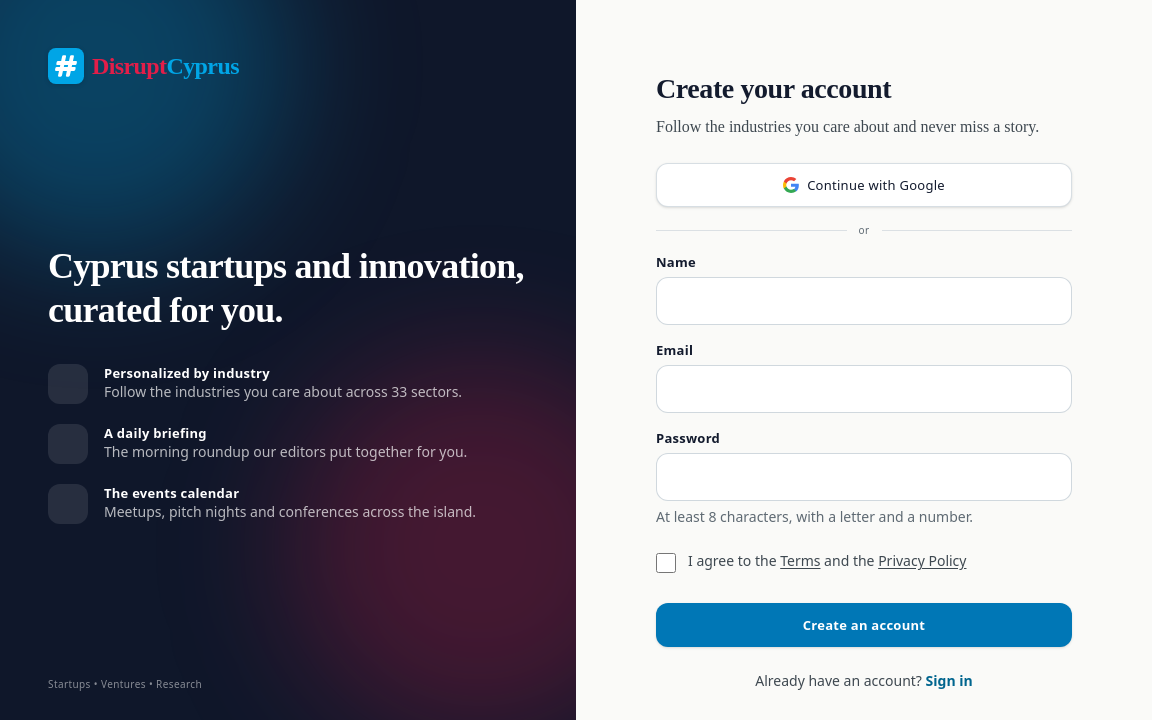
Test: sign up › requires consent and a strong enough password
Type "Anna" into the field labelled "Name" at (864, 301), box [656, 277, 1072, 325]
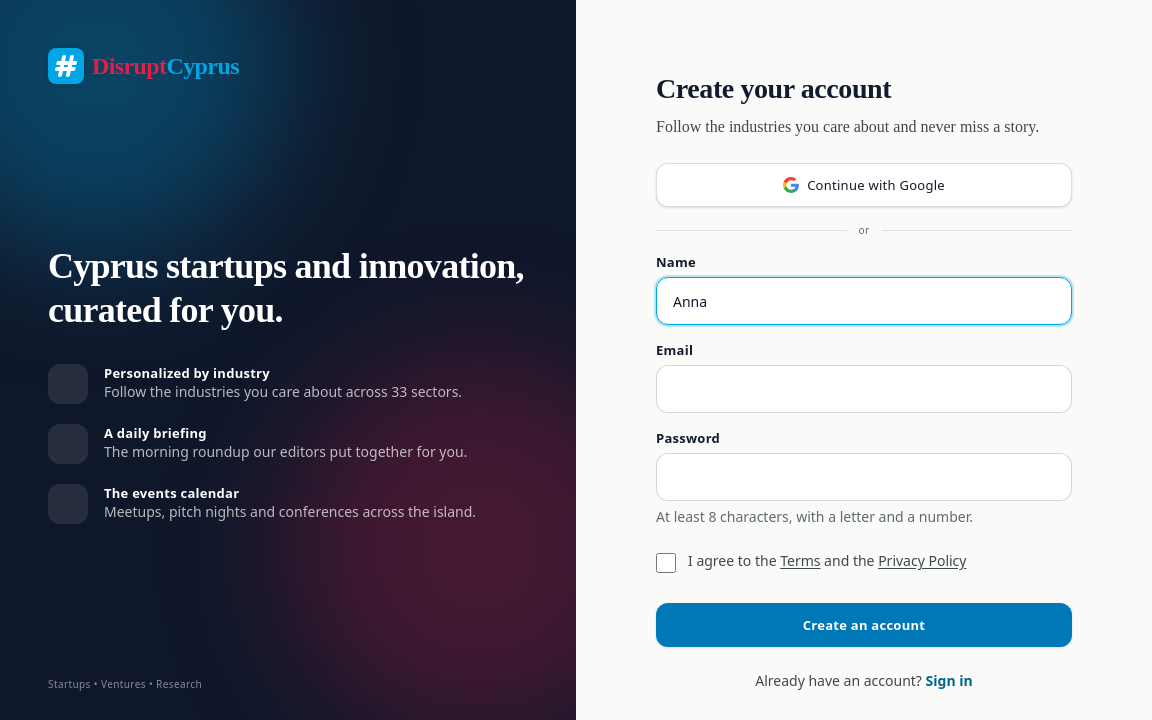
Type "anna@example.com" into the field labelled "Email" at (864, 389), box [656, 365, 1072, 413]
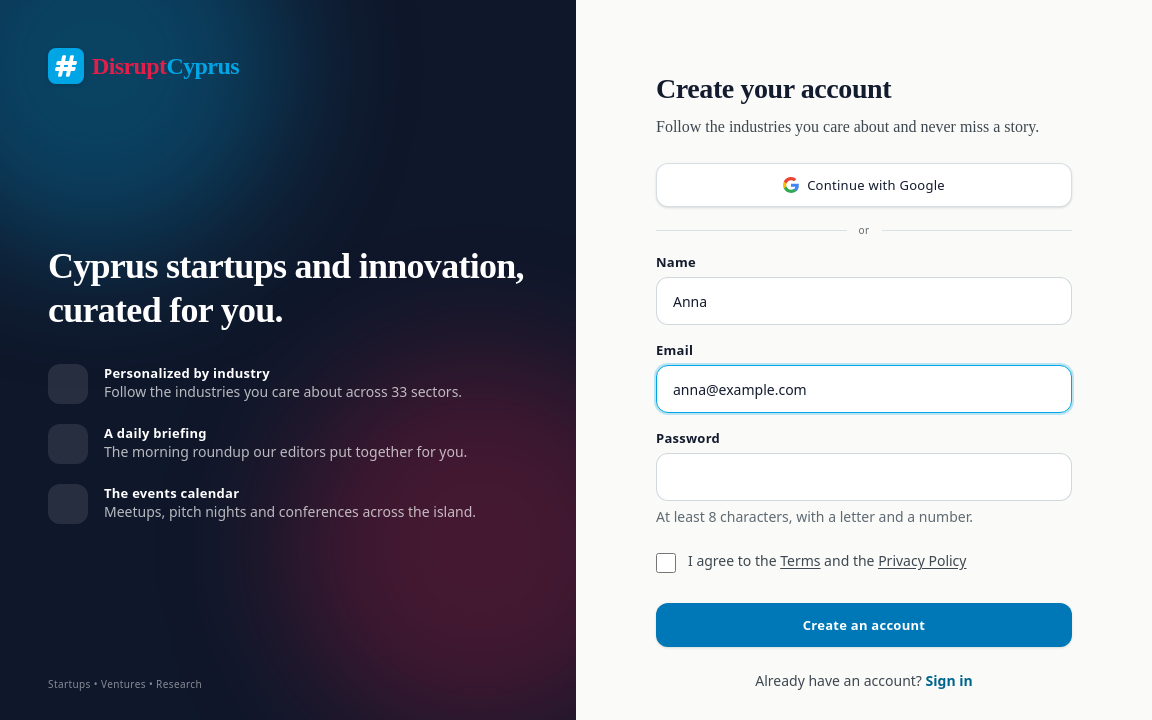
Type "short" into the password field labelled "Password" at (864, 477), box [656, 453, 1072, 501]
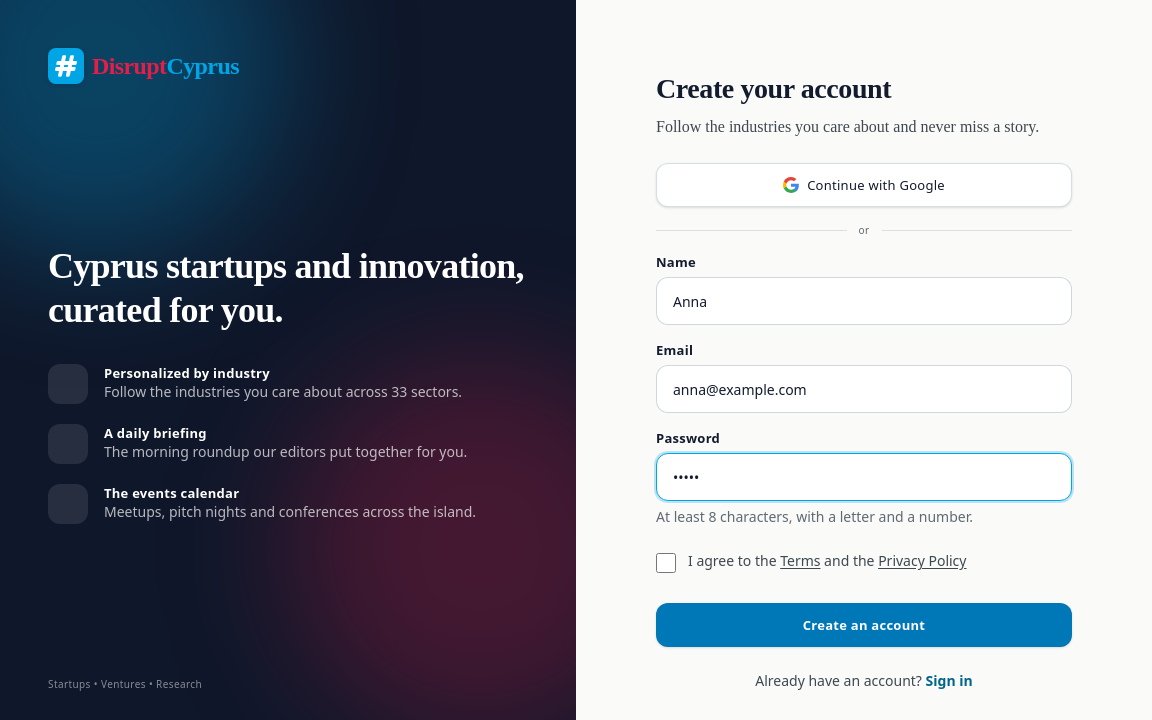
Click the button "Create an account" at (864, 625), box [656, 603, 1072, 647]
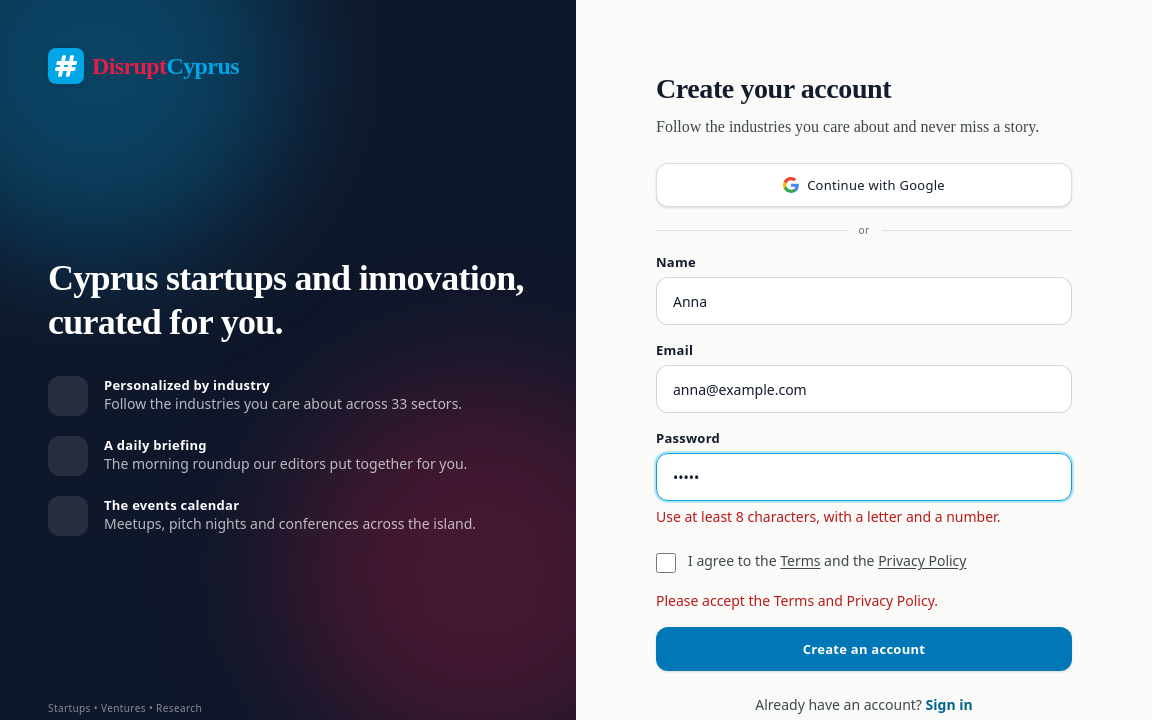
Result: the text "Please accept the Terms and Privacy Policy." is shown at [656, 591, 938, 610]
Result: the text "Use at least 8 characters, with a letter and a number." is shown at [656, 507, 1000, 526]
